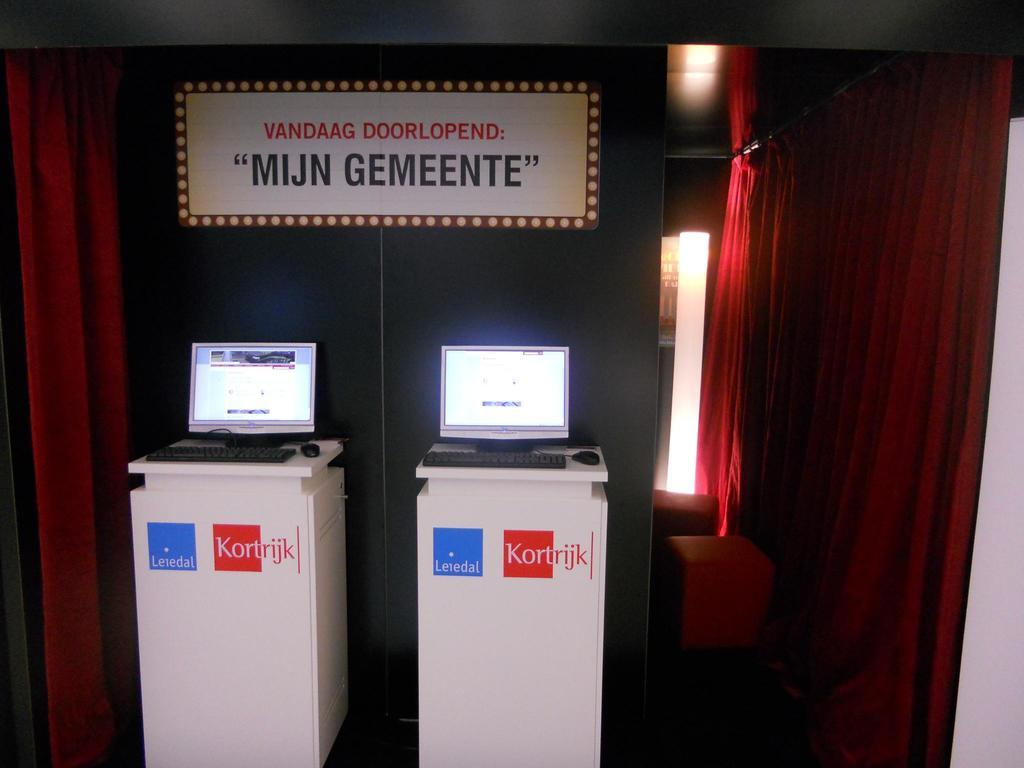Computer-monitor: (438, 344, 577, 456), (186, 340, 321, 451)
